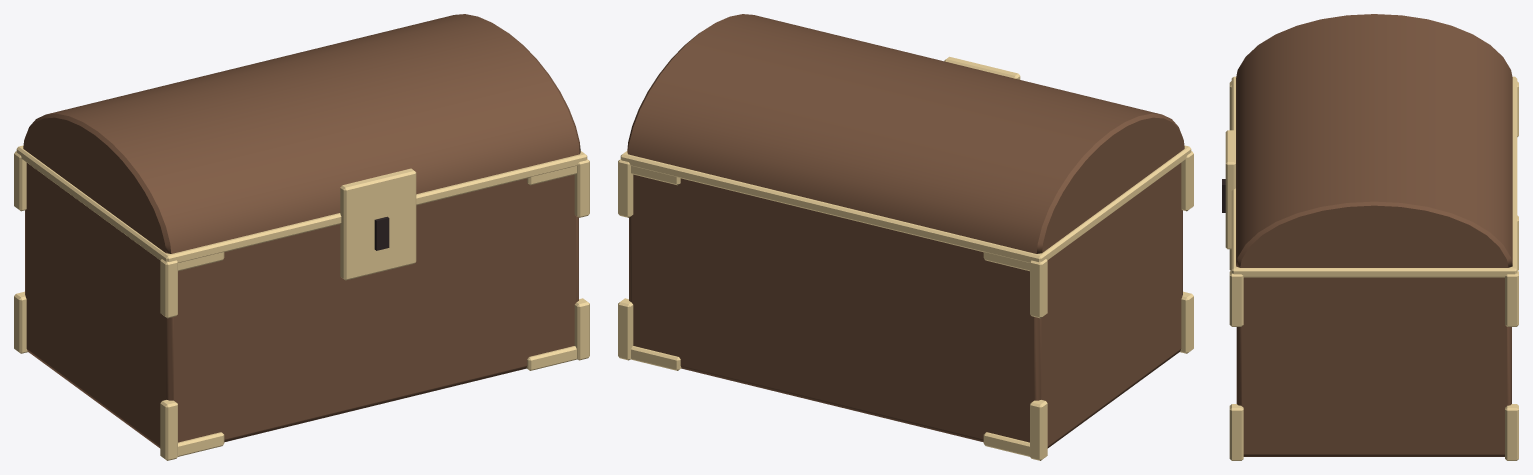
Rendered from chest_premium.glb.
3 views of the same model, side by side, from view 1: azimuth 30°, elevation 25°; view 2: azimuth 150°, elevation 25°; view 3: azimuth 270°, elevation 25° (orthographic). The views are drawn at different scales.
Parts seen in each view (by area): view 1: Prem_Body, Prem_Lid, Prem_BrassTrim; view 2: Prem_Body, Prem_Lid, Prem_BrassTrim; view 3: Prem_Lid, Prem_Body, Prem_BrassTrim.
Boxes of the visible parts, <box> form: Prem_Body: <box>25,163,578,448</box>; Prem_Lid: <box>23,14,580,253</box>; Prem_BrassTrim: <box>14,145,589,460</box>; Prem_Body: <box>629,163,1182,448</box>; Prem_Lid: <box>627,14,1184,253</box>; Prem_BrassTrim: <box>618,56,1193,460</box>; Prem_Lid: <box>1236,14,1512,267</box>; Prem_Body: <box>1236,277,1511,456</box>; Prem_BrassTrim: <box>1225,76,1518,460</box>.
Size of the model in its own units: 2.68 by 1.65 by 1.73.
